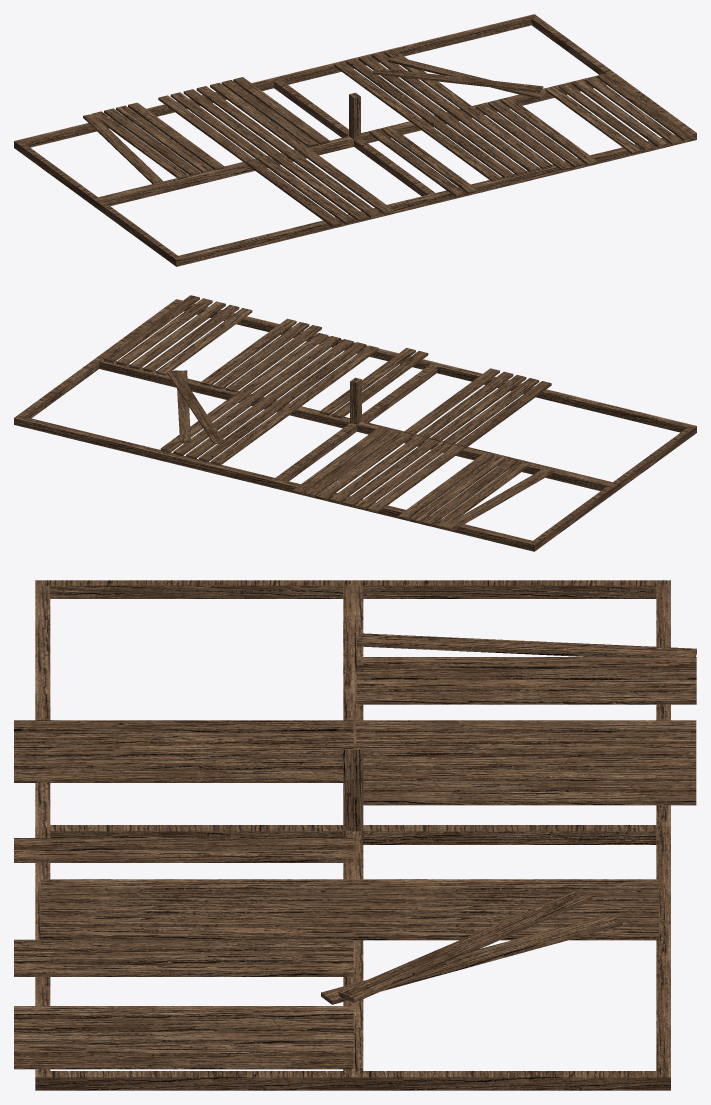
The model's file is Carkas.fbx.
3 renders of one model, top to bottom at view 1: azimuth 30°, elevation 25°; view 2: azimuth 150°, elevation 25°; view 3: azimuth 270°, elevation 25°, orthographic. The views are drawn at different scales.
Visible parts, largest first — view 1: Castle-Holl-Dosky; view 2: Castle-Holl-Dosky; view 3: Castle-Holl-Dosky.
Part boxes in pixels (bbox=[...]): Castle-Holl-Dosky: bbox=[14, 14, 696, 266]; Castle-Holl-Dosky: bbox=[14, 295, 696, 551]; Castle-Holl-Dosky: bbox=[14, 580, 696, 1090].
Size of the model in its own units: 448 by 40.06 by 260.
